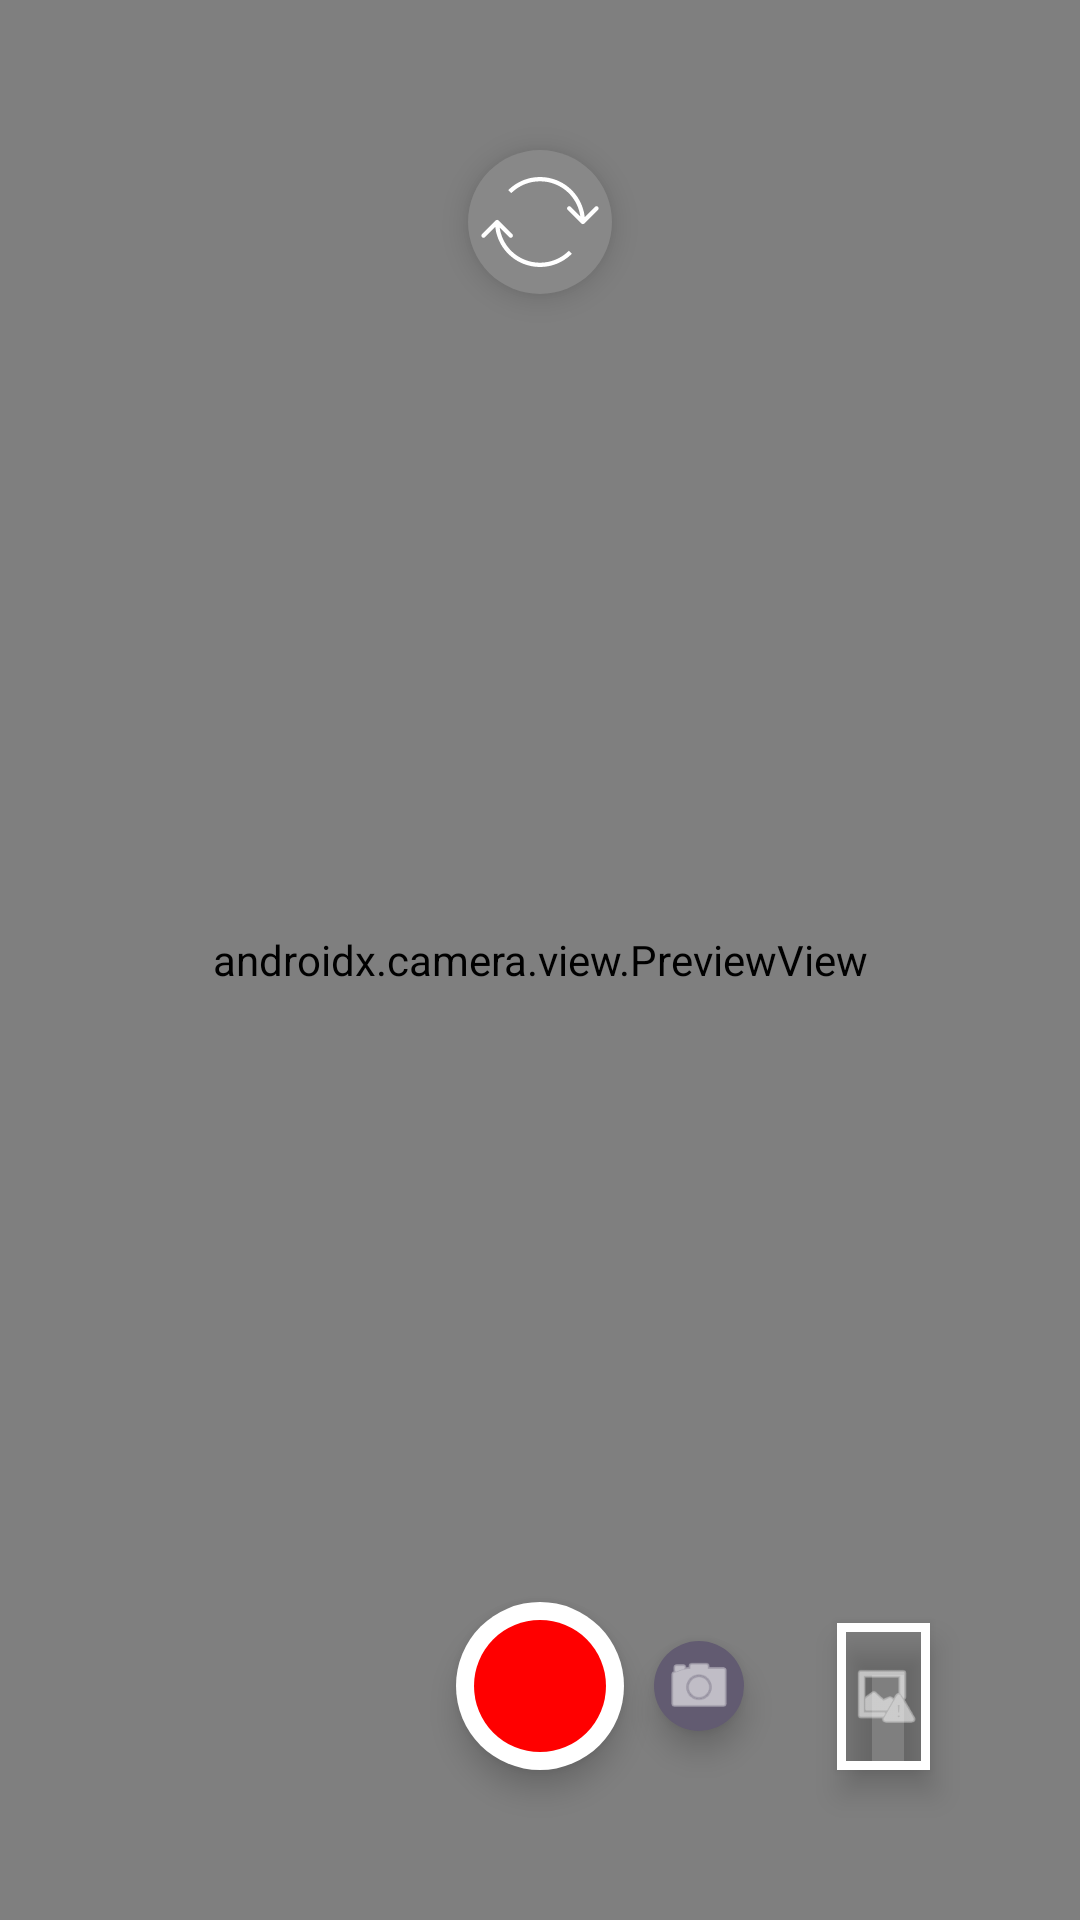

Where icons sit on this 1080w x 1920h app screen, as (x1, y1, x2, y2):
refresh: (468, 150, 612, 294)
start recording: (456, 1602, 624, 1770)
